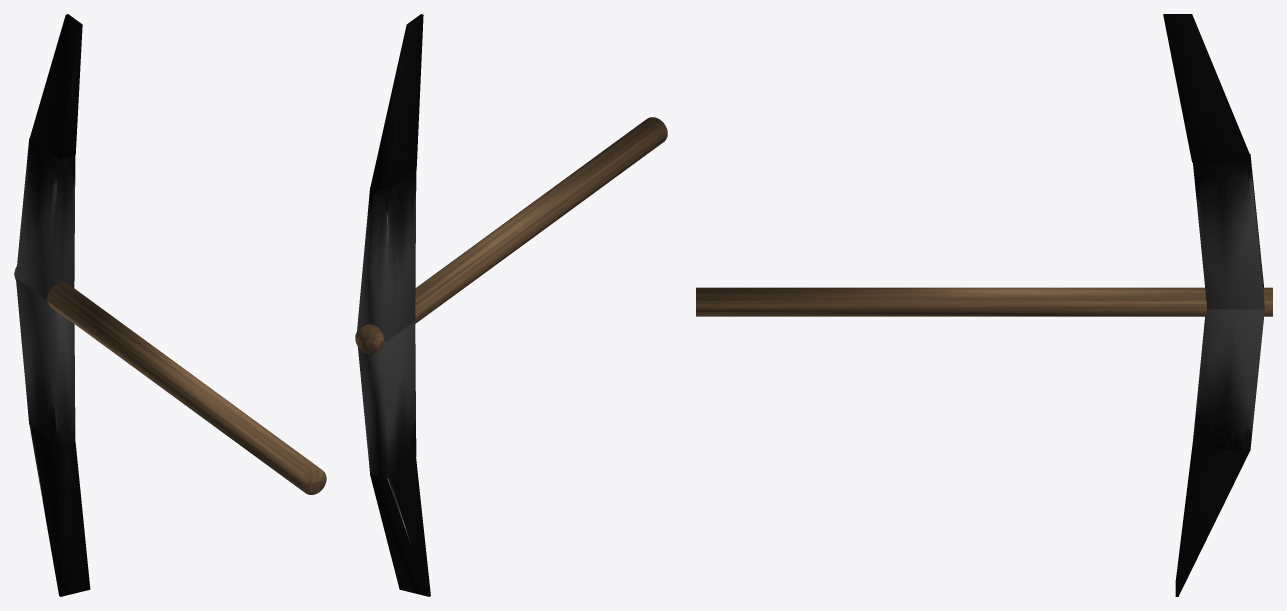
The model's file is pickaxe.fbx.
The picture shows the model from 3 angles, left to right: view 1: azimuth 30°, elevation 25°; view 2: azimuth 150°, elevation 25°; view 3: azimuth 270°, elevation 25°; orthographic projection.
Parts seen in each view (by area): view 1: Cube_002; view 2: Cube_002; view 3: Cube_002.
Boxes of the visible parts, <box> form: Cube_002: <box>14,14,326,596</box>; Cube_002: <box>355,14,667,596</box>; Cube_002: <box>696,14,1272,596</box>.
Bounding box in the file's own units: 0.2415 × 4.4 × 4.
1 material, 1 textured.
